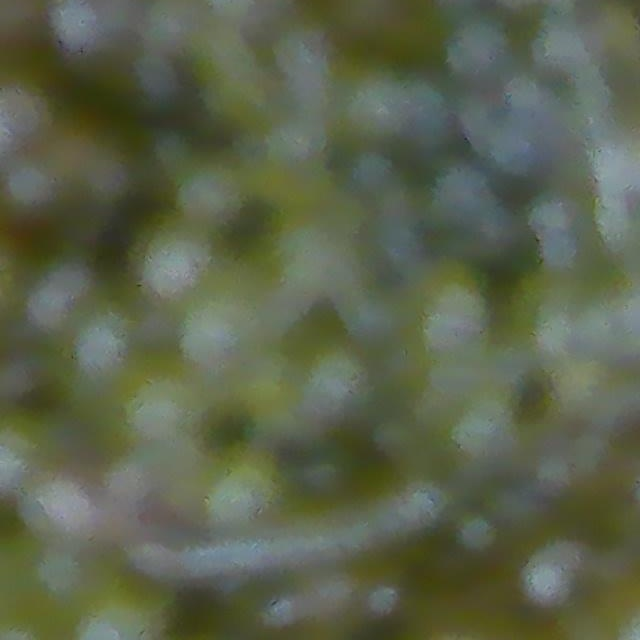SeaGrape: (327, 53, 444, 158), (406, 262, 496, 357), (114, 363, 208, 451), (291, 337, 377, 429), (134, 218, 219, 301), (438, 7, 519, 92), (60, 131, 142, 211), (171, 151, 251, 231), (64, 305, 136, 392), (23, 254, 97, 331), (26, 472, 99, 544)
